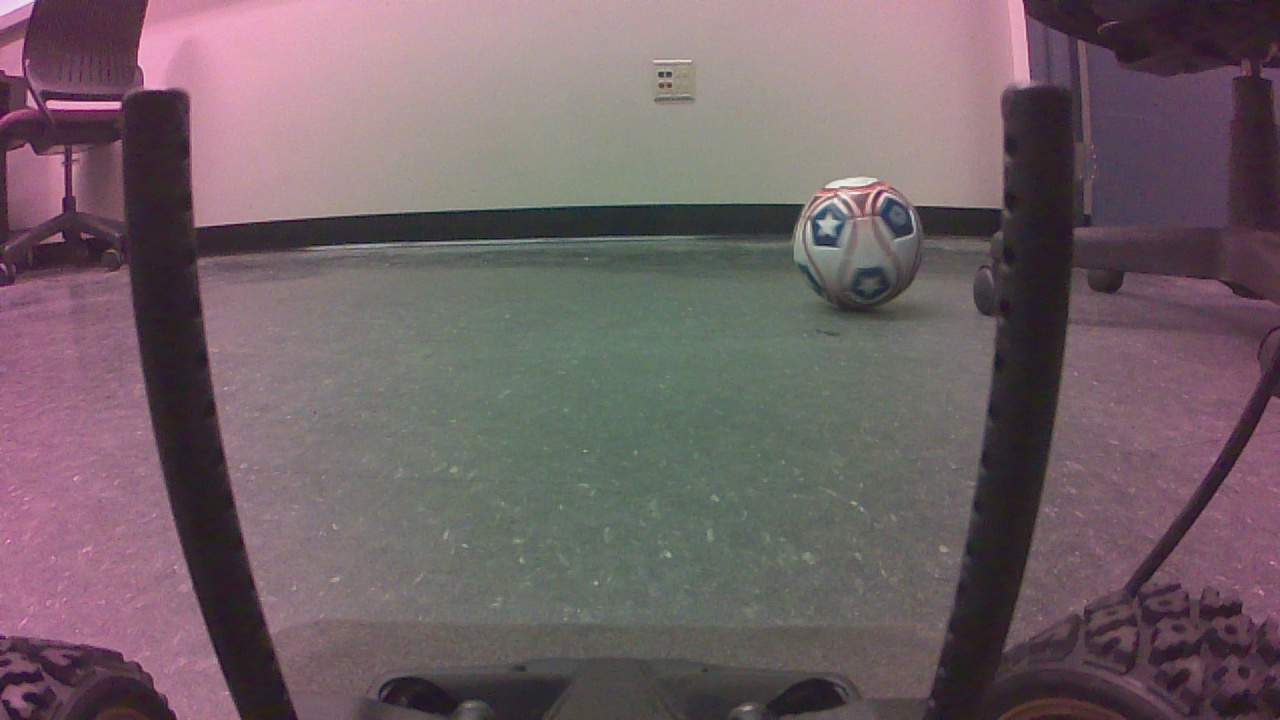ball: (796, 178, 930, 313)
